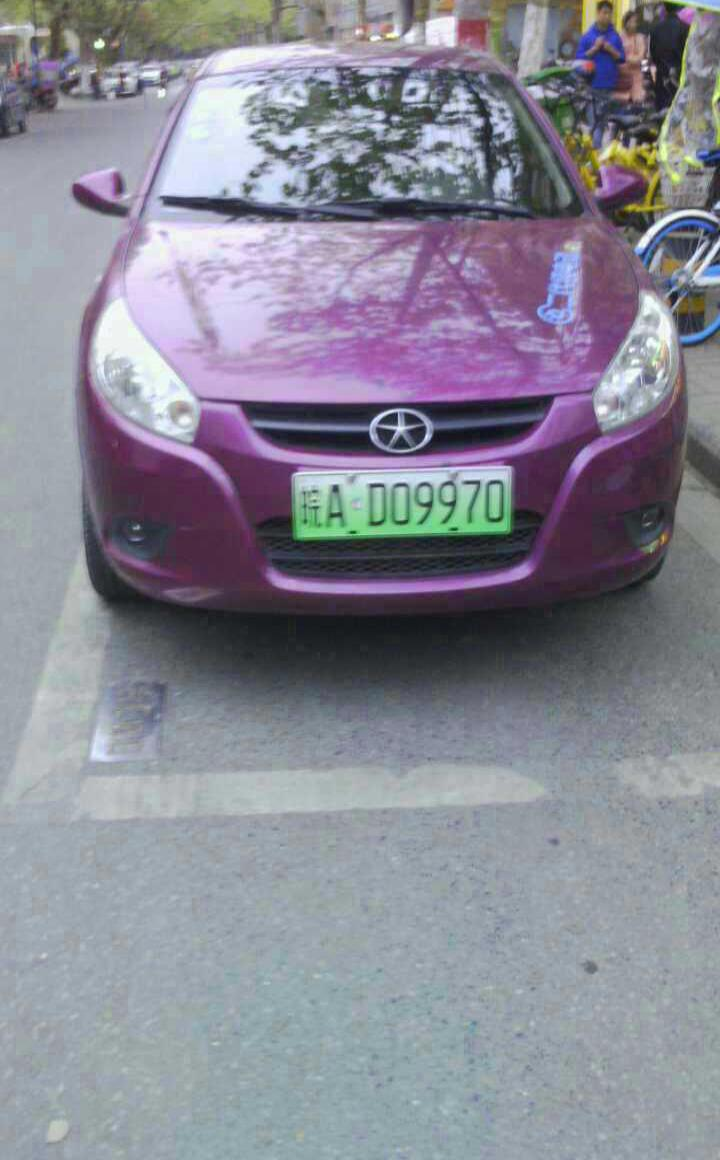car_id: (290, 465, 515, 537)
